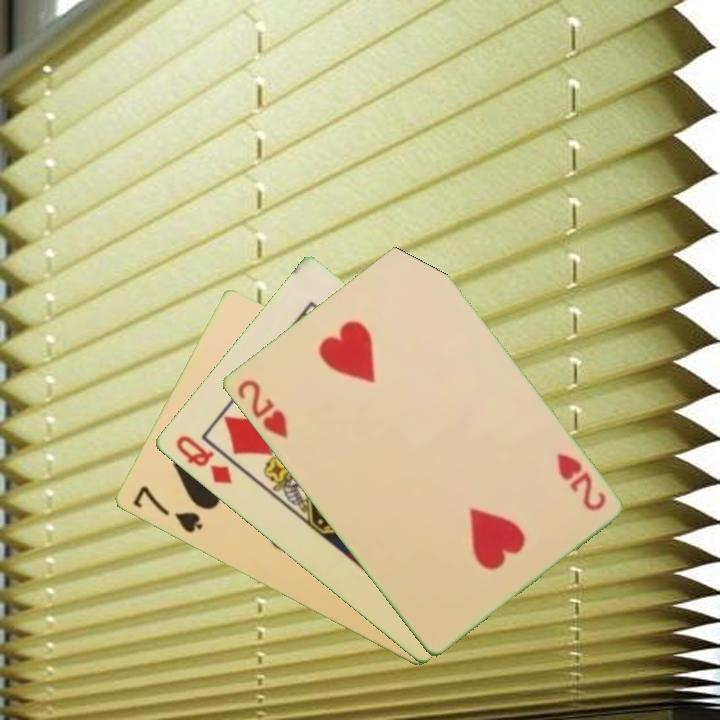2h: (233, 375, 291, 441), (552, 449, 609, 514)
7s: (128, 482, 205, 536)
Qd: (171, 432, 235, 488)
